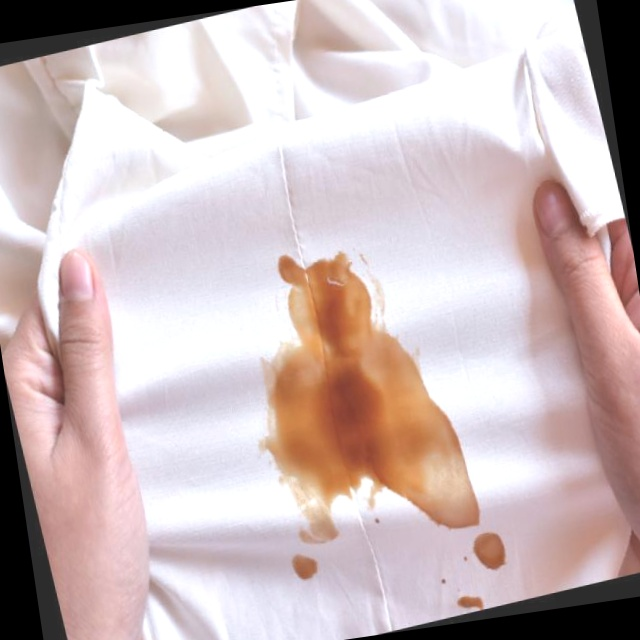coffee: (245, 226, 446, 545), (470, 529, 513, 575), (288, 554, 322, 586)
